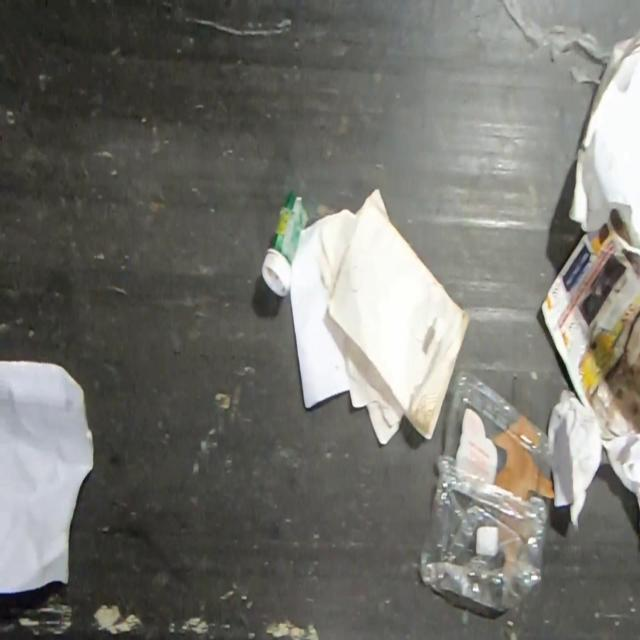cardboard: (566, 29, 640, 247)
rigid_plastic: (417, 357, 554, 615), (260, 191, 309, 298)
soft_plastic: (499, 0, 614, 86)
